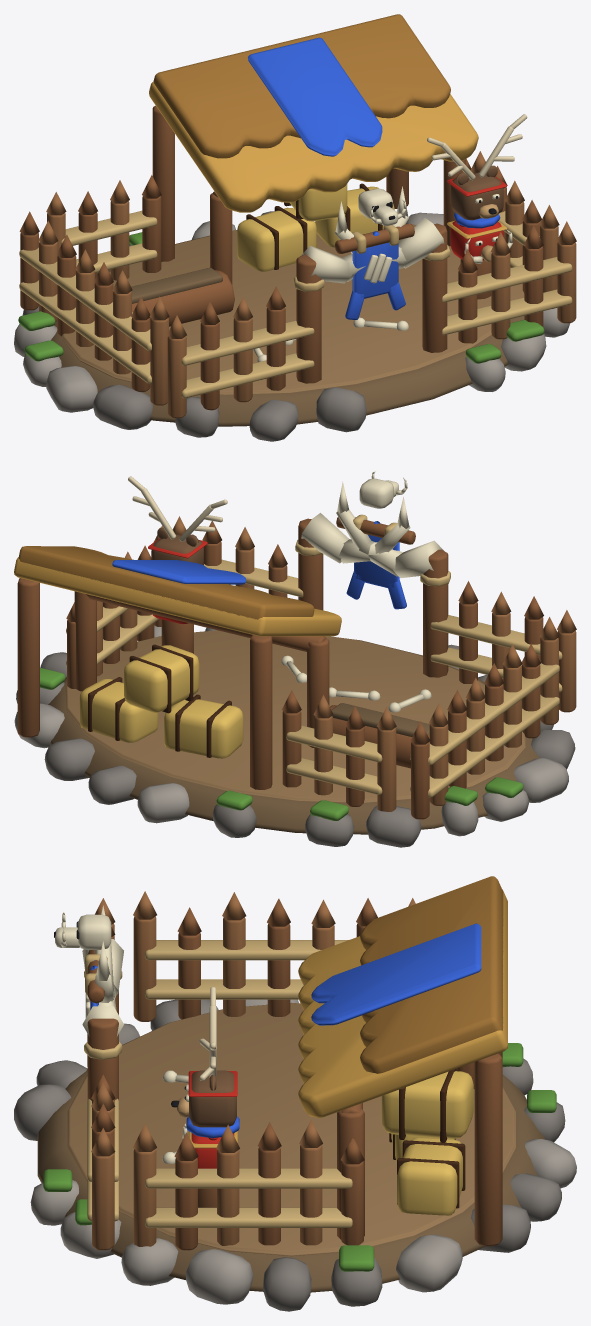
The model's file is Stables.glb.
3 renders of one model, top to bottom at view 1: azimuth 30°, elevation 25°; view 2: azimuth 150°, elevation 25°; view 3: azimuth 270°, elevation 25°, orthographic. The views are drawn at different scales.
Parts seen in each view (by area): view 1: Stables; view 2: Stables; view 3: Stables.
Part boxes in pixels (<box>): Stables: <box>14,14,576,441</box>; Stables: <box>14,471,576,847</box>; Stables: <box>14,876,576,1311</box>.
Bounding box in the file's own units: 4.07 × 1.68 × 3.23.
